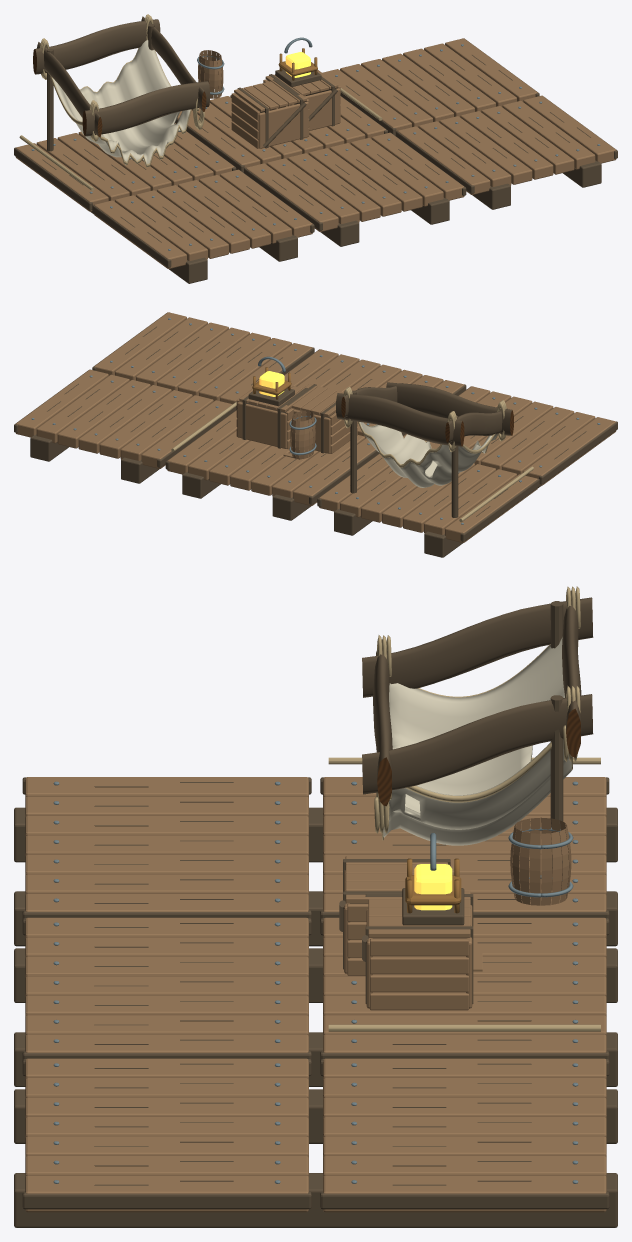
The model's file is raft_initial_v003.glb.
3 views of the same model, one above another, from view 1: azimuth 30°, elevation 25°; view 2: azimuth 150°, elevation 25°; view 3: azimuth 270°, elevation 25° (orthographic). The views are drawn at different scales.
Parts seen in each view (by area): view 1: GEO-root-decor-2742.001, GEO-deck-intact-378.002, GEO-deck-intact-378.004, GEO-deck-intact-378.003, GEO-deck-intact-378.001, GEO-root-decor-736.001, GEO-root-decor-1428.001, GEO-root-decor-2208.001, GEO-deck-intact-972.002, GEO-deck-intact-972.003, GEO-deck-intact-972.004, GEO-root-decor-1440.001 (+4 smaller); view 2: GEO-root-decor-2742.001, GEO-deck-intact-378.001, GEO-deck-intact-378.004, GEO-root-decor-736.001, GEO-deck-intact-378.002, GEO-root-decor-2208.001, GEO-deck-intact-378.003, GEO-root-decor-1428.001, GEO-deck-intact-972.001, GEO-root-decor-1440.001, GEO-deck-intact-972.002, GEO-deck-intact-972.004 (+4 smaller); view 3: GEO-root-decor-2742.001, GEO-deck-intact-378.001, GEO-deck-intact-378.004, GEO-deck-intact-378.003, GEO-deck-intact-378.002, GEO-root-decor-736.001, GEO-root-decor-1428.001, GEO-deck-intact-972.001, GEO-deck-intact-972.004, GEO-root-decor-2208.001, GEO-root-decor-1440.001, GEO-deck-intact-972.002 (+5 smaller).
Boxes of the visible parts, x1,y1,x2,y2 form: GEO-root-decor-2742.001: (16,50,385,211); GEO-deck-intact-378.002: (94,169,312,268); GEO-deck-intact-378.004: (397,95,616,194); GEO-deck-intact-378.003: (246,132,464,231); GEO-deck-intact-378.001: (322,38,537,130); GEO-root-decor-736.001: (33,16,209,137); GEO-root-decor-1428.001: (52,40,190,165); GEO-root-decor-2208.001: (14,24,387,214); GEO-deck-intact-972.002: (92,170,314,283); GEO-deck-intact-972.003: (244,133,466,246); GEO-deck-intact-972.004: (395,96,617,209); GEO-root-decor-1440.001: (19,14,382,190); GEO-root-decor-2742.001: (167,384,537,542); GEO-deck-intact-378.001: (16,369,232,468); GEO-deck-intact-378.004: (94,312,312,404); GEO-root-decor-736.001: (336,382,513,446); GEO-deck-intact-378.002: (403,386,615,485); GEO-root-decor-2208.001: (165,384,539,557); GEO-deck-intact-378.003: (284,349,464,438); GEO-root-decor-1428.001: (360,422,497,487); GEO-deck-intact-972.001: (14,370,236,483); GEO-root-decor-1440.001: (171,387,533,522); GEO-deck-intact-972.002: (404,386,617,487); GEO-deck-intact-972.004: (92,312,314,409); GEO-root-decor-2742.001: (323,777,606,1052); GEO-deck-intact-378.001: (323,1058,606,1212); GEO-deck-intact-378.004: (25,1058,308,1212); GEO-deck-intact-378.003: (25,917,308,1052); GEO-deck-intact-378.002: (25,777,308,911); GEO-root-decor-736.001: (362,591,593,806); GEO-root-decor-1428.001: (383,637,572,845); GEO-deck-intact-972.001: (314,1059,617,1227); GEO-deck-intact-972.004: (14,1059,317,1227); GEO-root-decor-2208.001: (314,601,617,1086); GEO-root-decor-1440.001: (328,586,600,1031); GEO-deck-intact-972.002: (14,777,317,946).
Size of the model in its own units: 6.98 by 2.03 by 4.26.
8 materials, 1 textured.
